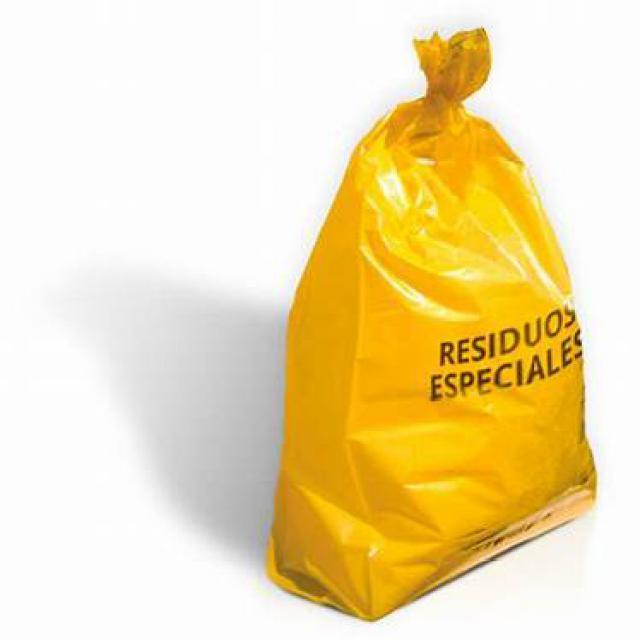waste: (281, 32, 602, 602)
